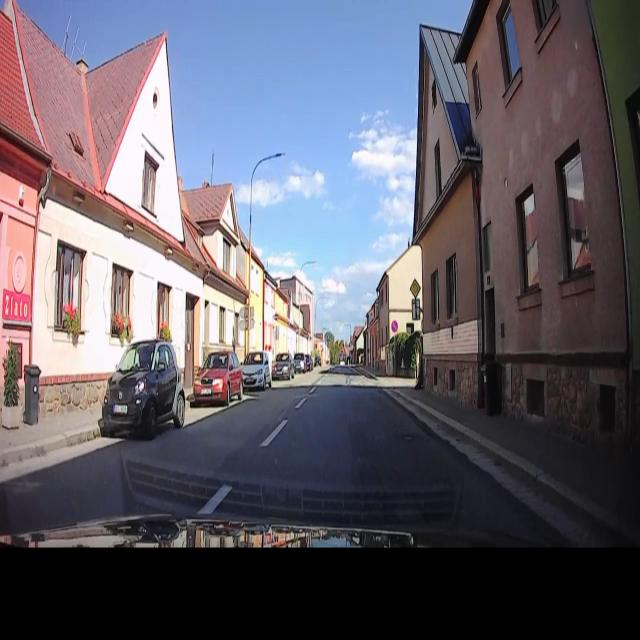forb_stopping: (391, 318, 400, 334)
